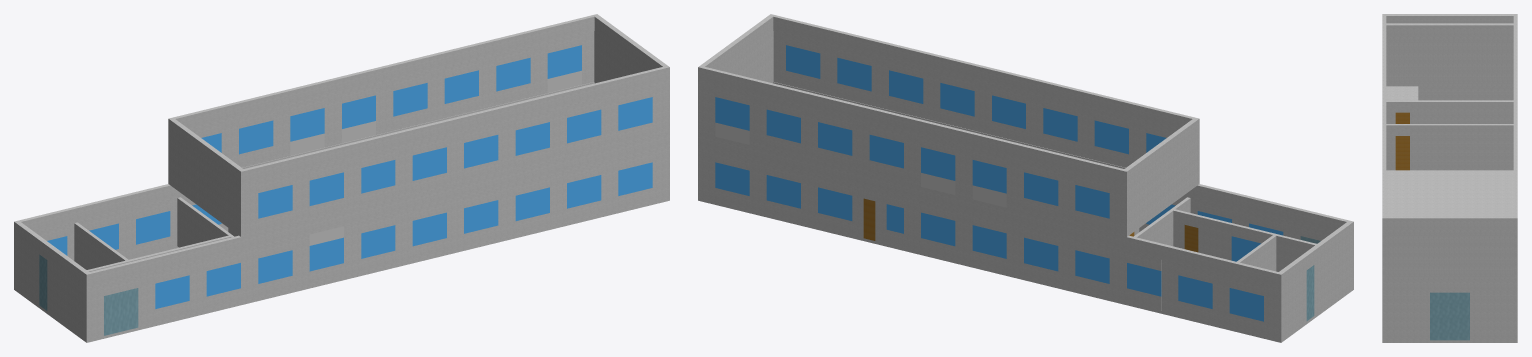
File: Chlorination_Room_expansion.glb
The picture shows the model from 3 angles, left to right: view 1: azimuth 30°, elevation 25°; view 2: azimuth 150°, elevation 25°; view 3: azimuth 270°, elevation 25°; orthographic projection. The views are drawn at different scales.
Visible parts, largest first — view 1: Floor1; view 2: Floor1; view 3: Floor1.
Boxes of the visible parts, bbox=[...] form: Floor1: bbox=[14, 14, 669, 342]; Floor1: bbox=[698, 14, 1353, 342]; Floor1: bbox=[1382, 14, 1517, 342].
Size of the model in its own units: 42.97 by 9.4 by 9.28.
Materials: 4 (4 with a texture image).
